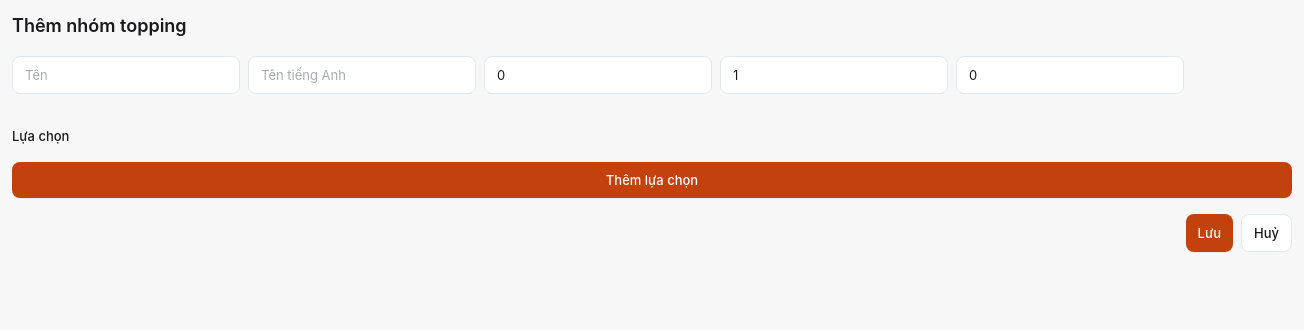
Test: ModifierGroupEditor › refuses to save a group without options
Type "Topping" into the field with placeholder "Tên" at (126, 75), box left=12, top=56, right=240, bottom=94
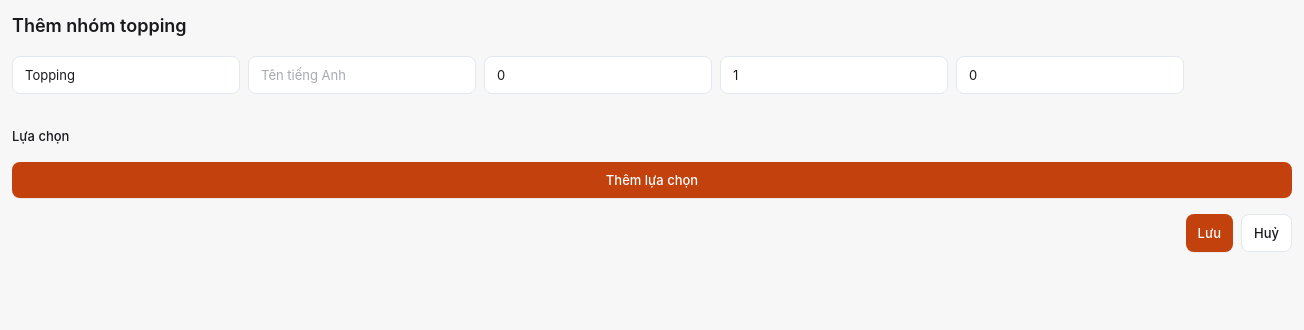
Submit the form, box left=12, top=56, right=1292, bottom=252
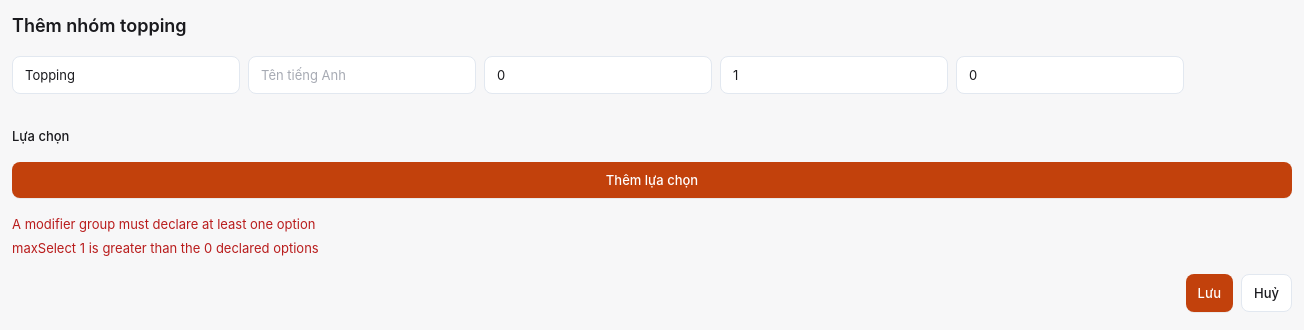
Result: the message shows "option" at left=12, top=216, right=315, bottom=232
